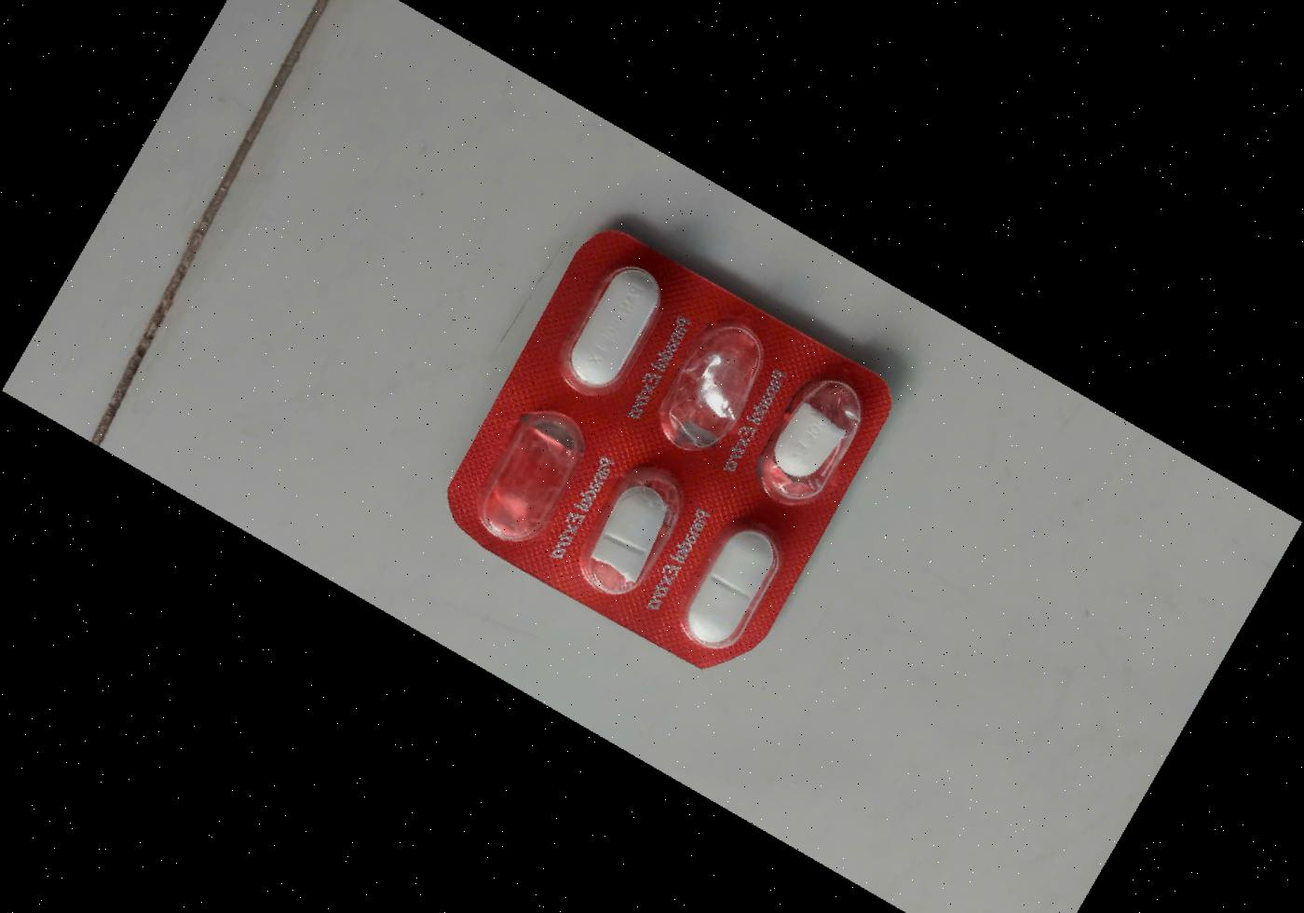Empty: (465, 393, 608, 559), (640, 305, 783, 471)
Full: (659, 506, 802, 671), (541, 248, 683, 413)
Partial: (560, 450, 703, 615), (741, 358, 883, 523)
